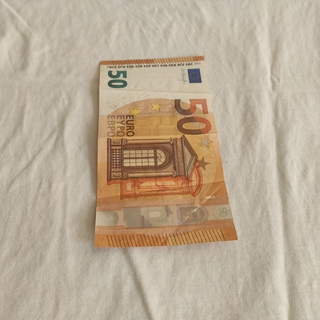50EUROFront: (93, 55, 239, 248)
